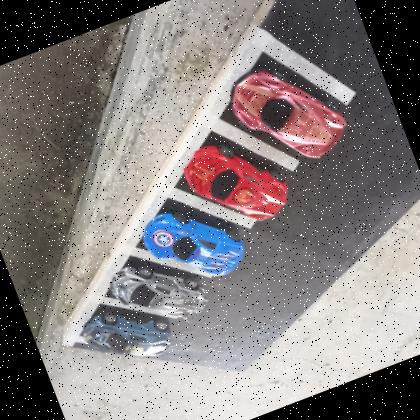Car: (224, 46, 356, 180), (178, 125, 295, 241), (136, 190, 252, 299), (106, 244, 214, 346), (77, 293, 178, 378)
